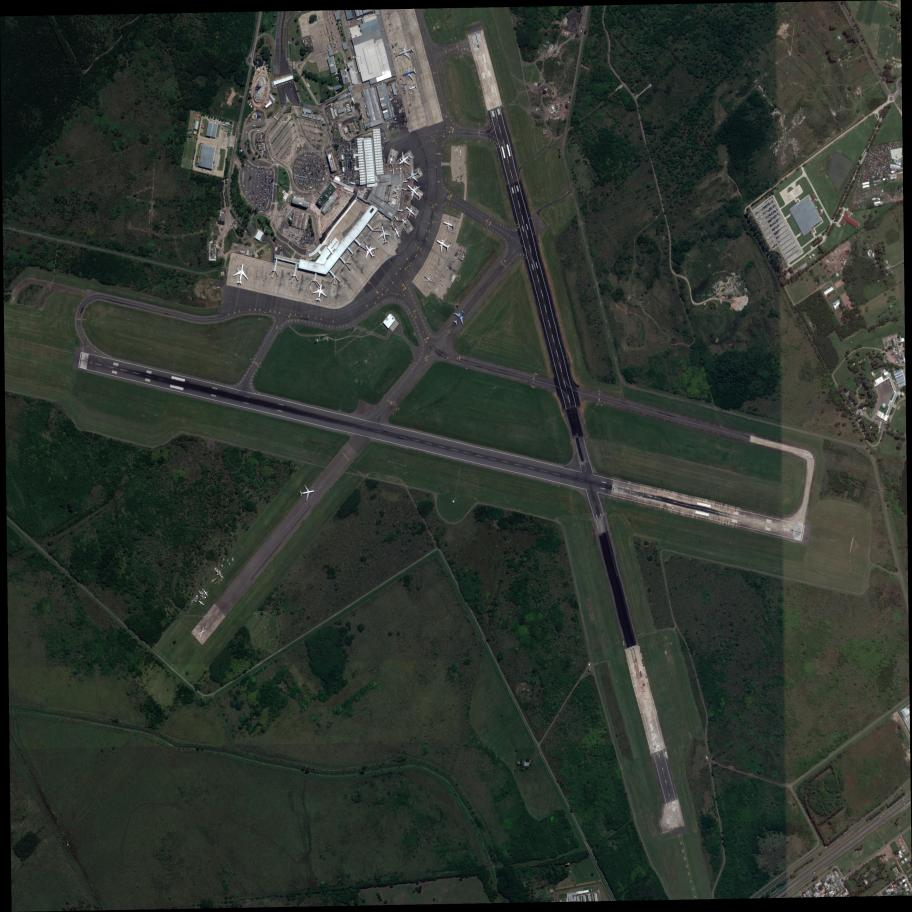plane: (402, 181, 425, 204), (432, 233, 454, 257), (393, 148, 416, 170), (394, 41, 417, 63), (231, 262, 251, 286), (359, 241, 380, 263), (449, 308, 470, 329), (404, 166, 425, 186), (439, 217, 458, 235), (299, 483, 316, 503), (402, 203, 420, 221), (401, 63, 418, 82), (311, 283, 327, 303), (376, 226, 391, 246), (385, 153, 398, 167), (422, 273, 434, 285), (392, 227, 403, 240), (400, 218, 411, 230), (407, 84, 419, 94), (395, 25, 401, 32)
